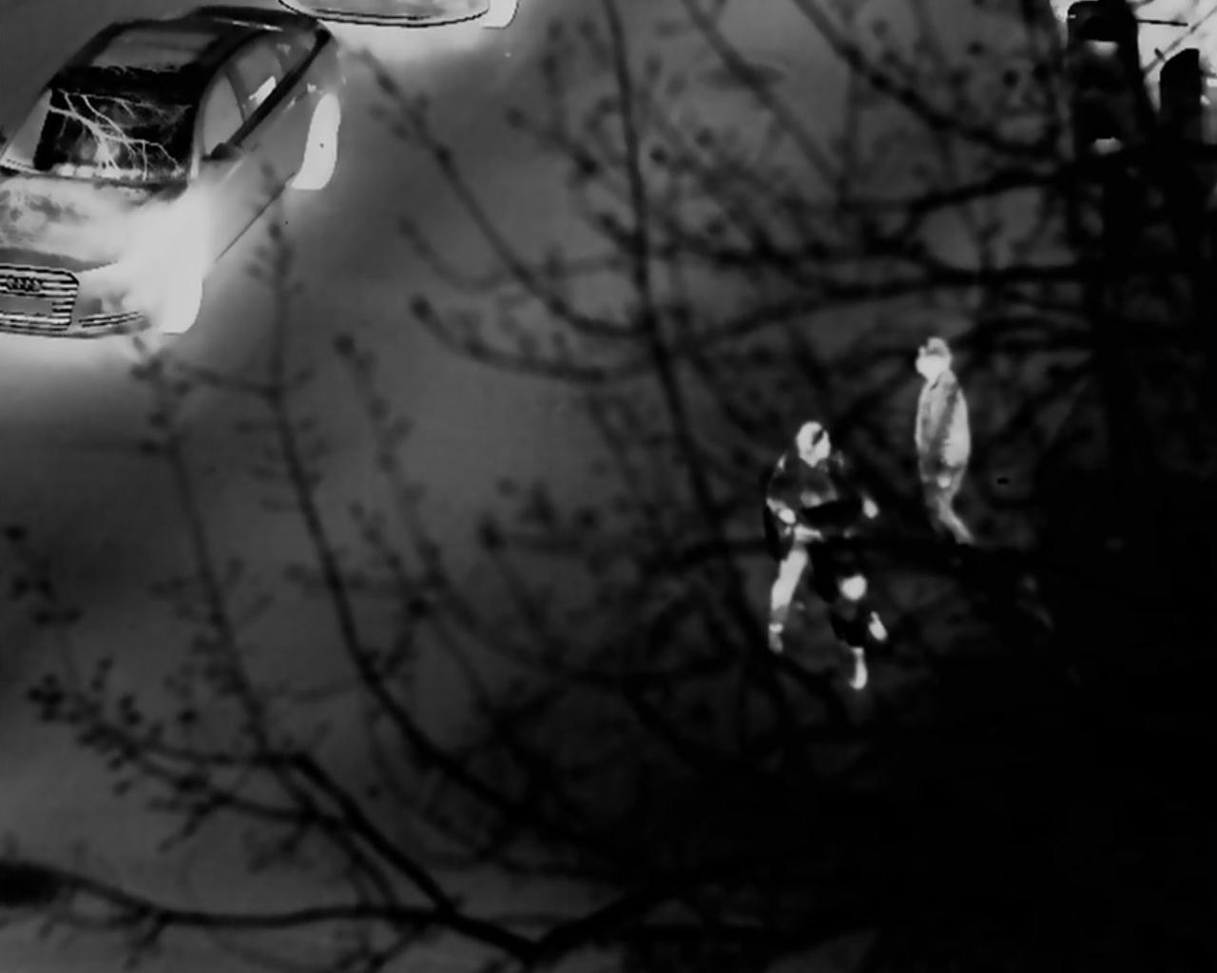person: (770, 421, 878, 658), (908, 337, 983, 544)
